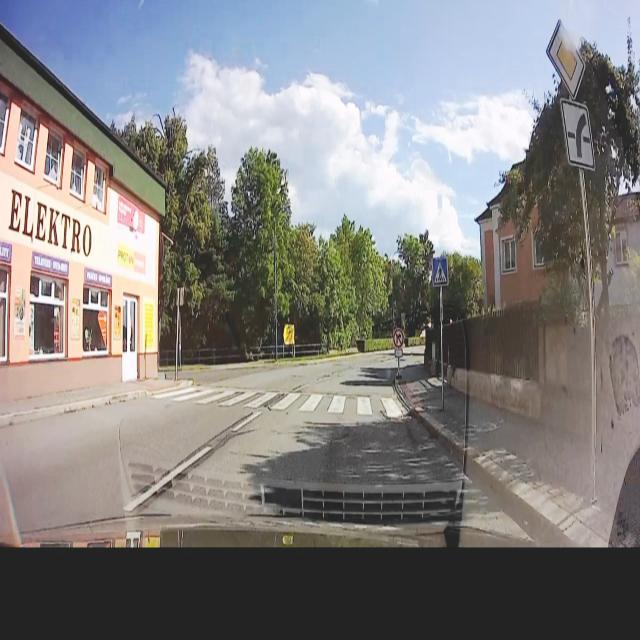Priority road: (542, 18, 586, 102)
